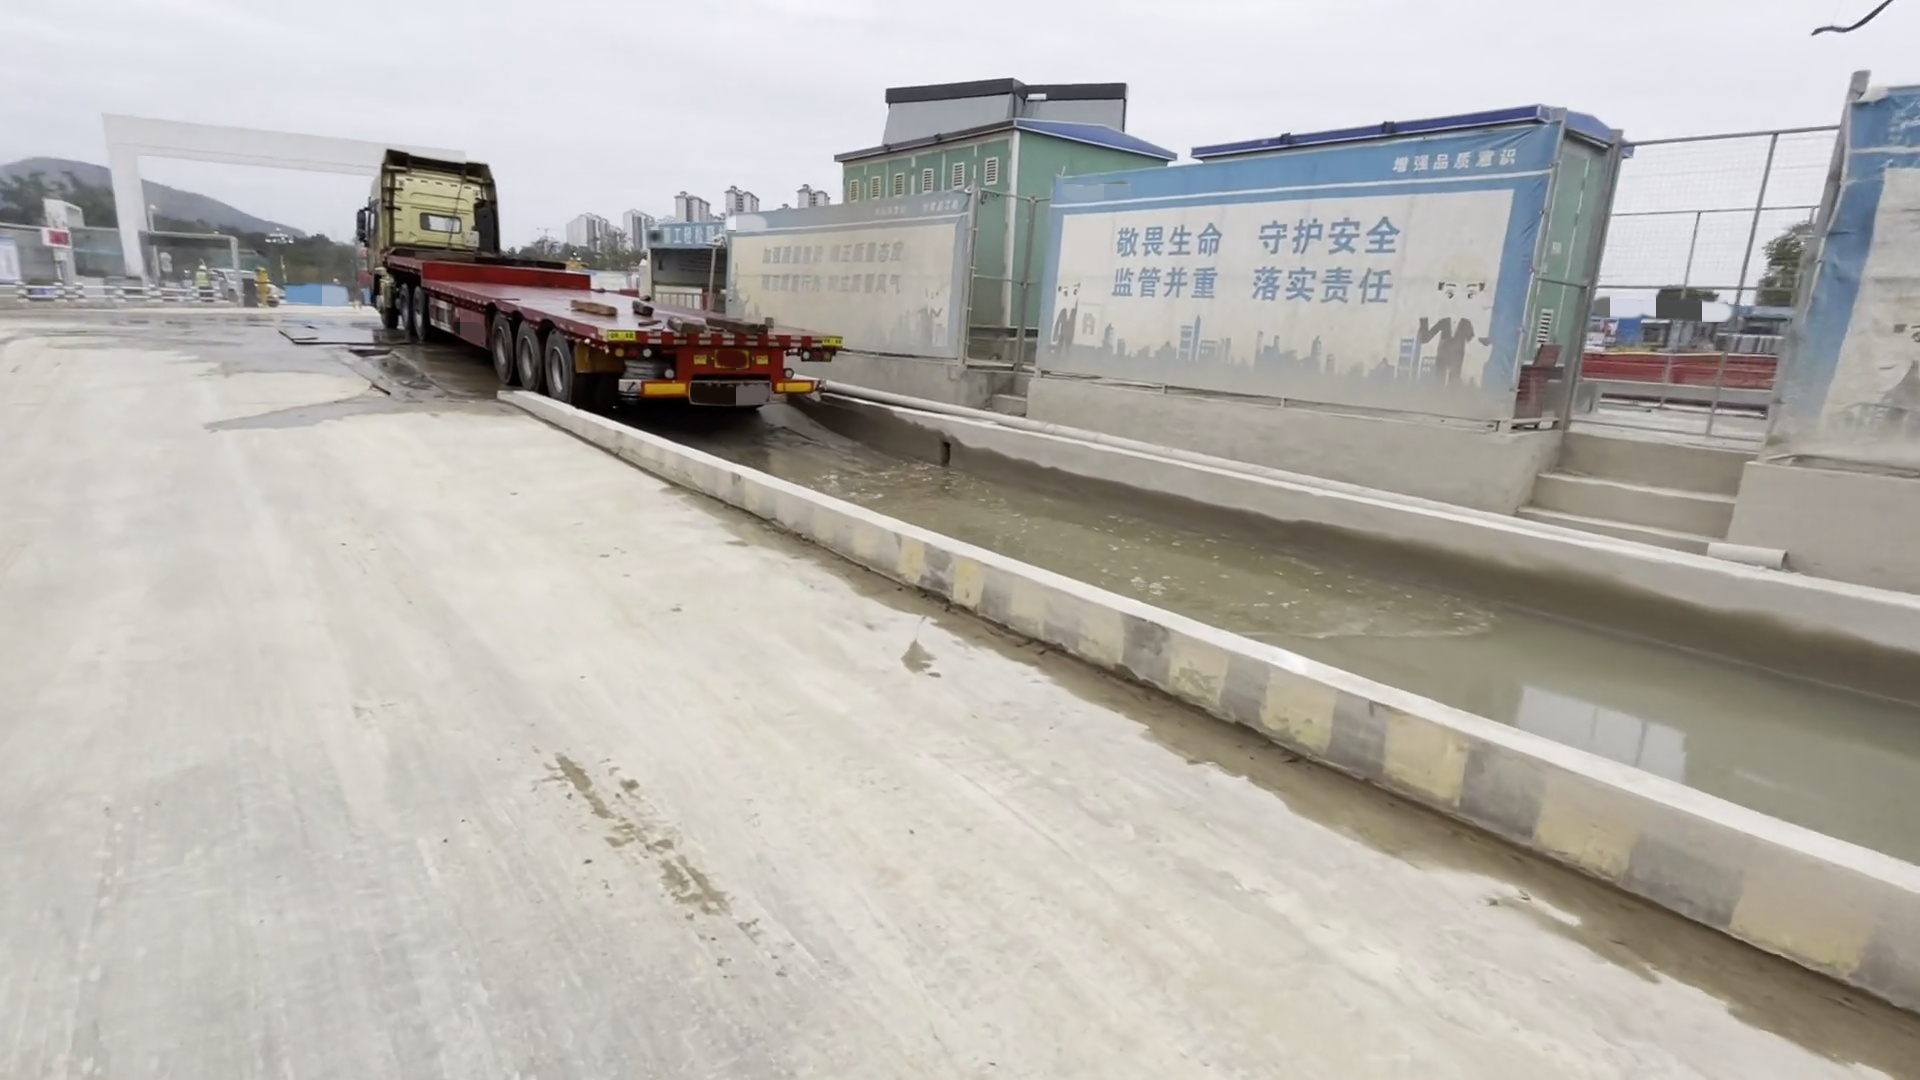person: (191, 260, 215, 312)
slogan: (1104, 204, 1393, 327), (759, 243, 909, 296), (1392, 150, 1523, 176)
vest: (196, 272, 211, 288)
